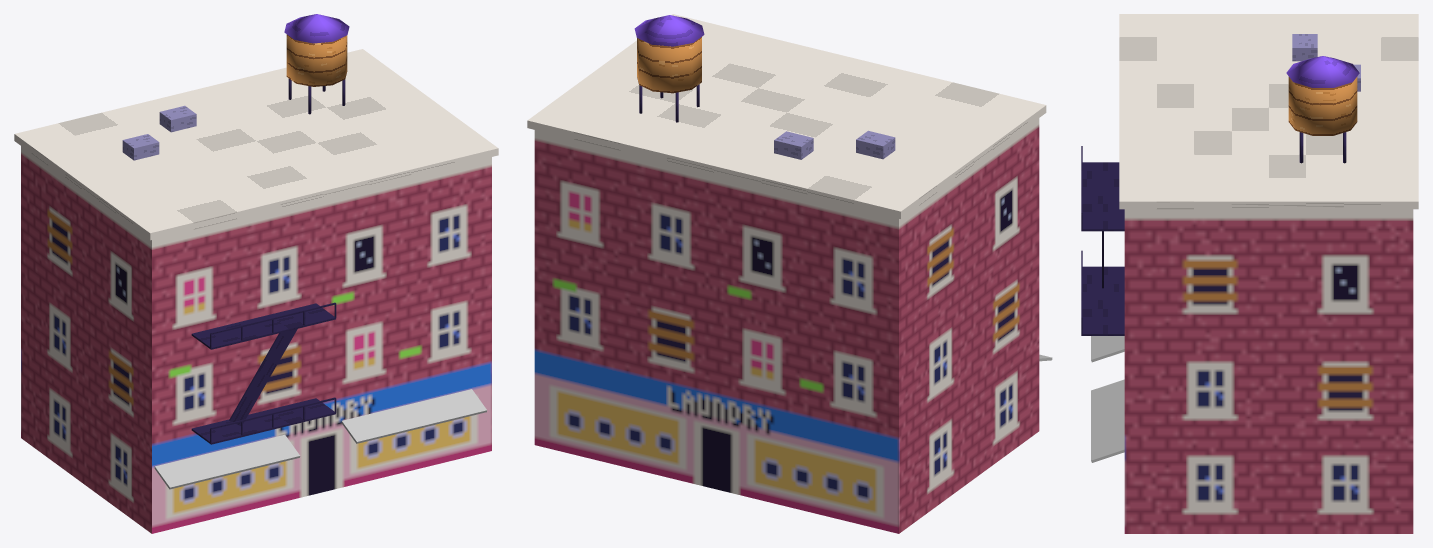
The model's file is Brick Apartment.fbx.
3 renders of one model, left to right at view 1: azimuth 30°, elevation 25°; view 2: azimuth 150°, elevation 25°; view 3: azimuth 270°, elevation 25°, orthographic. The views are drawn at different scales.
Parts seen in each view (by area): view 1: Brick Apartment walls, Brick Apartment cornice, Brick Apartment awning 0, Brick Apartment awning 1, Brick Apartment tank, Brick Apartment landing 1, Brick Apartment landing 0, Brick Apartment ladder, Brick Apartment tank roof, Brick Apartment vent 1, Brick Apartment vent 0; view 2: Brick Apartment walls, Brick Apartment cornice, Brick Apartment tank, Brick Apartment tank roof, Brick Apartment vent 0, Brick Apartment vent 1; view 3: Brick Apartment walls, Brick Apartment cornice, Brick Apartment tank, Brick Apartment landing 0, Brick Apartment landing 1, Brick Apartment awning 1, Brick Apartment tank roof, Brick Apartment awning 0, Brick Apartment vent 0.
Boxes of the visible parts, x1,y1,x2,y2 form: Brick Apartment walls: (21,146,491,533); Brick Apartment cornice: (14,49,498,240); Brick Apartment awning 0: (154,434,300,489); Brick Apartment awning 1: (341,389,487,443); Brick Apartment tank: (286,34,347,86); Brick Apartment landing 1: (191,303,335,349); Brick Apartment landing 0: (191,398,335,444); Brick Apartment ladder: (229,328,297,425); Brick Apartment tank roof: (284,14,349,43); Brick Apartment vent 1: (159,105,196,132); Brick Apartment vent 0: (122,134,159,160); Brick Apartment walls: (534,118,1039,533); Brick Apartment cornice: (527,14,1046,218); Brick Apartment tank: (637,37,701,93); Brick Apartment tank roof: (634,15,704,46); Brick Apartment vent 0: (856,130,895,159); Brick Apartment vent 1: (774,131,813,159); Brick Apartment walls: (1124,209,1413,533); Brick Apartment cornice: (1119,14,1418,209); Brick Apartment tank: (1288,76,1357,135); Brick Apartment landing 0: (1081,266,1124,335); Brick Apartment landing 1: (1081,162,1124,231); Brick Apartment awning 1: (1091,379,1124,462); Brick Apartment tank roof: (1286,56,1359,87); Brick Apartment awning 0: (1091,336,1124,362); Brick Apartment vent 0: (1292,34,1317,61).
Bounding box in the file's own units: 12.3 × 13.2 × 9.35.
